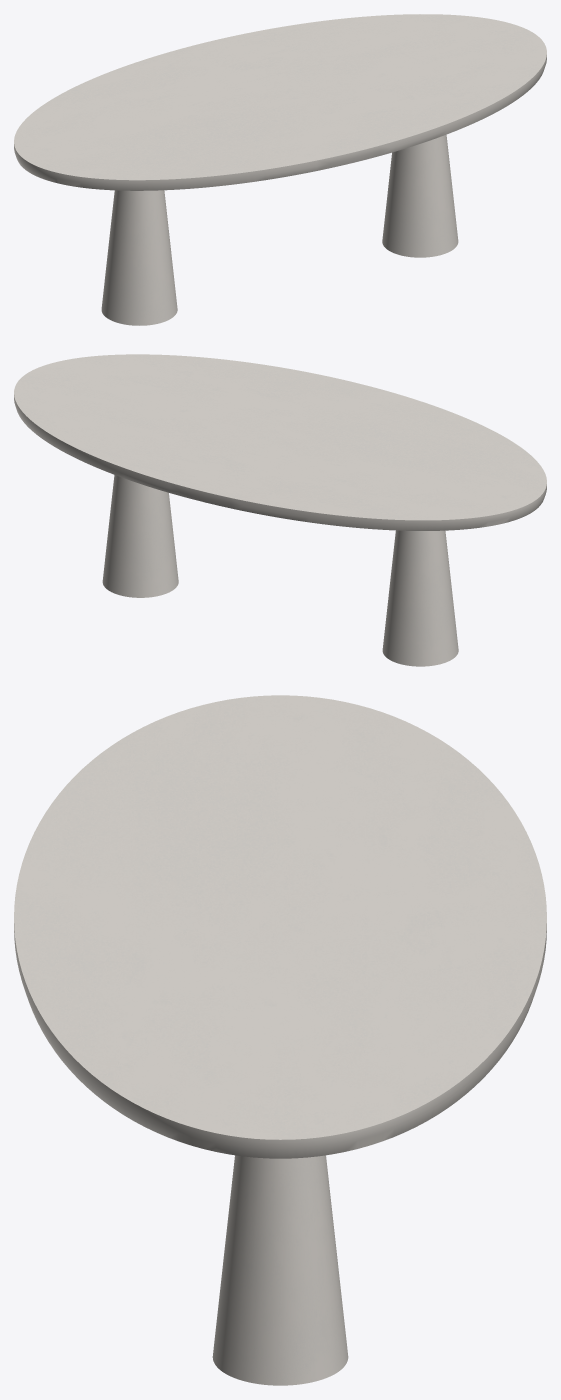
The model's file is pearlwhite_ellips_facet_pebble.glb.
The picture shows the model from 3 angles, top to bottom: view 1: azimuth 30°, elevation 25°; view 2: azimuth 150°, elevation 25°; view 3: azimuth 270°, elevation 25°; orthographic projection. The views are drawn at different scales.
Visible parts, largest first — view 1: tabletop_ellips_facet.015, tableleg_pebble.001; view 2: tabletop_ellips_facet.015, tableleg_pebble.001; view 3: tabletop_ellips_facet.015, tableleg_pebble.001.
Boxes of the visible parts, x1,y1,x2,y2 form: tabletop_ellips_facet.015: (14,14,546,190); tableleg_pebble.001: (101,134,458,325); tabletop_ellips_facet.015: (14,354,546,530); tableleg_pebble.001: (102,475,458,666); tabletop_ellips_facet.015: (14,695,546,1158); tableleg_pebble.001: (212,1155,348,1385).
Size of the model in its own units: 7.5 by 2.5 by 3.8.
1 material, 1 textured.
